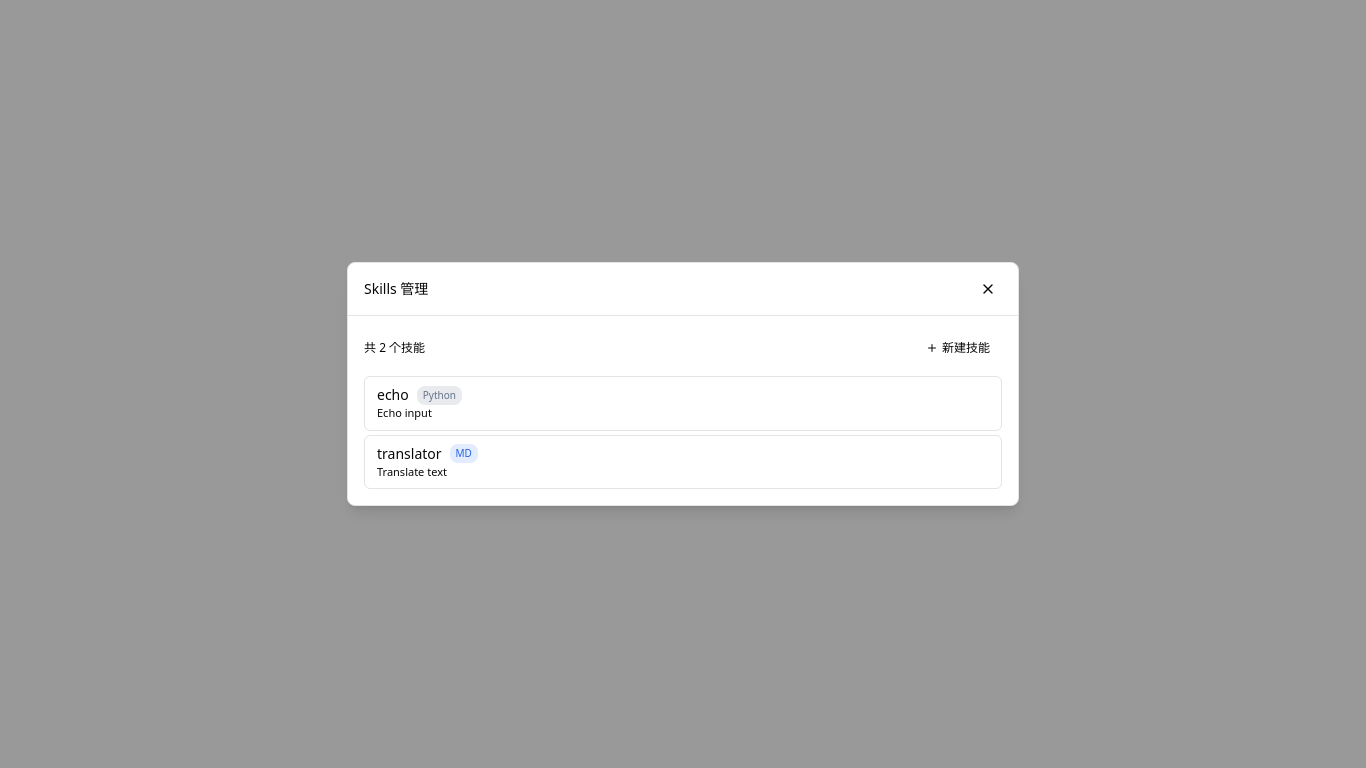
Test case: SkillsManager › opens a markdown skill for editing and pre-fills the form
Click the text "translator".
click(409, 454)  # box [377,444,442,464]
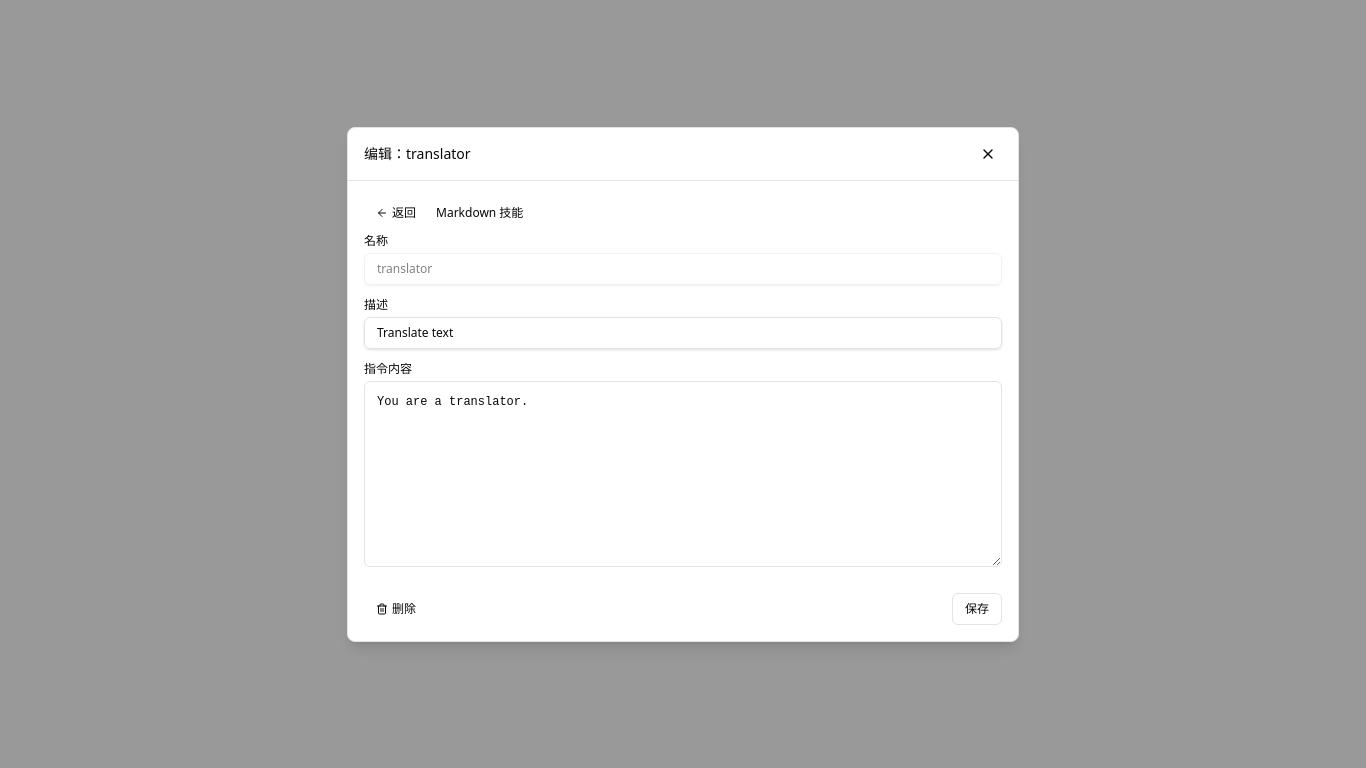
Now the field showing "translator" below "名称" is shown, box [364,252,1002,284]
Now the field showing "Translate text" below "描述" is shown, box [364,316,1002,348]
Now the text box showing "You are a translator." is shown, box [364,380,1002,566]
